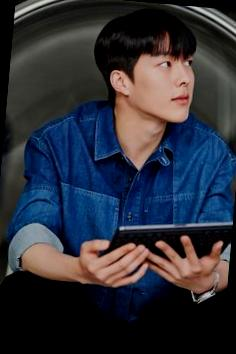opened: (141, 47, 196, 74)
